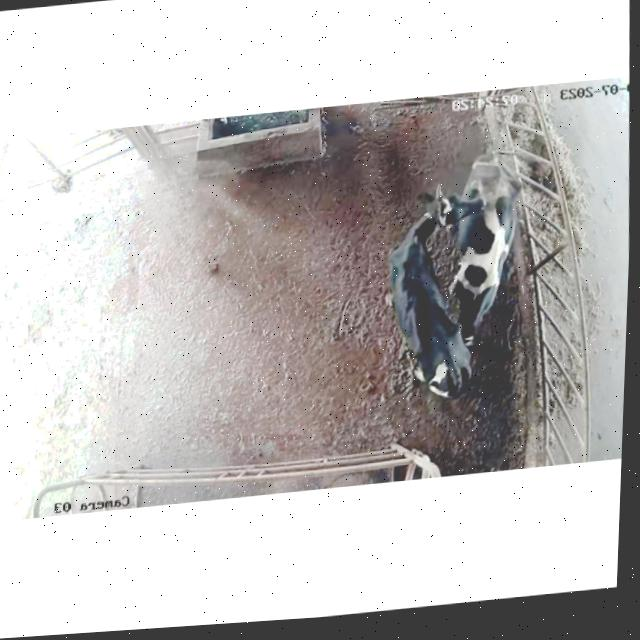propping: (399, 173, 512, 245)
